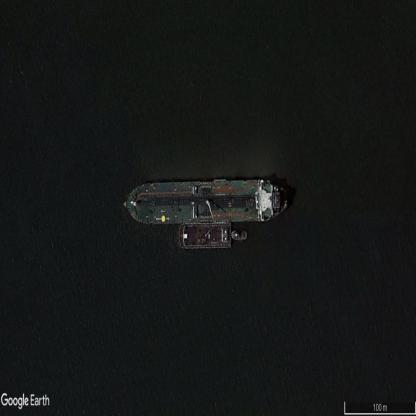ship: (125, 181, 288, 222), (179, 221, 232, 250), (232, 229, 248, 241)
